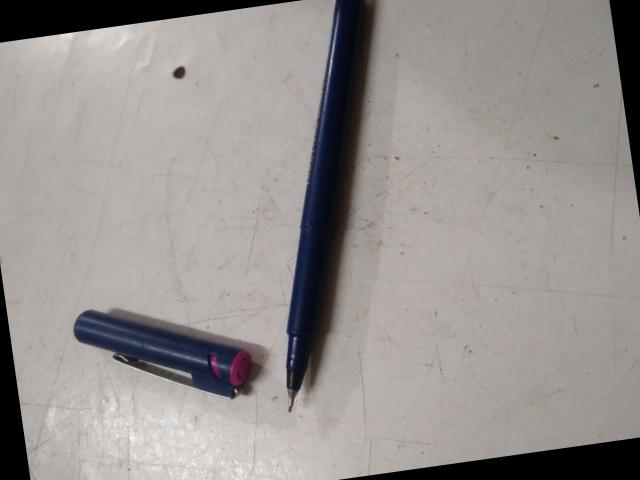PEN: (33, 40, 506, 473)
